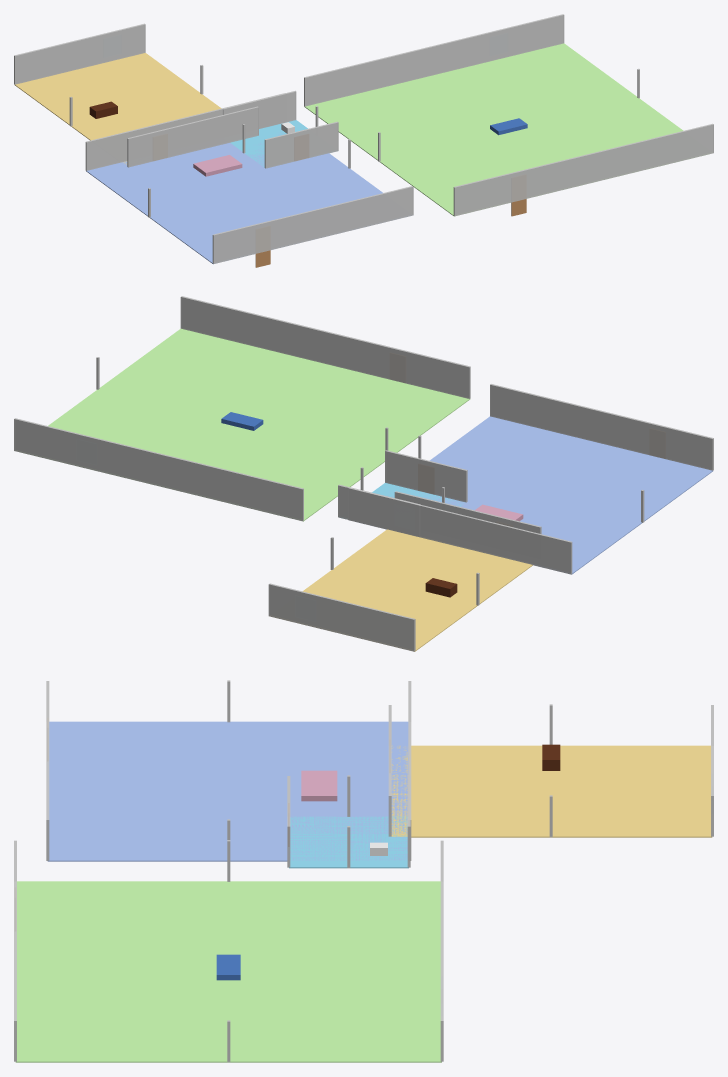
The model's file is colorful_floorplan_3413.obj.
3 renders of one model, top to bottom at view 1: azimuth 30°, elevation 25°; view 2: azimuth 150°, elevation 25°; view 3: azimuth 270°, elevation 25°, orthographic. The views are drawn at different scales.
Parts seen in each view (by area): view 1: Living_Room_1_floor, Bedroom_1_floor, Kitchen_1_floor, Living_Room_1_front_wall, Living_Room_1_back_wall, Bedroom_1_front_wall, Kitchen_1_back_wall, Kitchen_1_front_wall, Bathroom_1_front_wall, Bedroom_1_back_wall, Bathroom_1_back_wall, Bathroom_1_floor (+2 smaller); view 2: Living_Room_1_floor, Bedroom_1_floor, Kitchen_1_floor, Living_Room_1_back_wall, Living_Room_1_front_wall, Bedroom_1_back_wall, Bedroom_1_front_wall, Kitchen_1_back_wall, Bathroom_1_front_wall, Kitchen_1_front_wall, Bathroom_1_floor; view 3: Living_Room_1_floor, Bedroom_1_floor, Kitchen_1_floor, Bathroom_1_floor, Bedroom_1_bed_bed, Living_Room_1_back_wall, Bedroom_1_front_wall, Living_Room_1_sofa_sofa, Living_Room_1_front_wall, Bedroom_1_back_wall.
Boxes of the visible parts, left/top/right/bottom form: Living_Room_1_floor: left=304, top=43, right=694, bottom=216; Bedroom_1_floor: left=86, top=131, right=411, bottom=264; Kitchen_1_floor: left=15, top=53, right=221, bottom=164; Living_Room_1_front_wall: left=453, top=123, right=713, bottom=216; Living_Room_1_back_wall: left=304, top=14, right=564, bottom=106; Bedroom_1_front_wall: left=212, top=186, right=413, bottom=263; Kitchen_1_back_wall: left=14, top=23, right=145, bottom=84; Kitchen_1_front_wall: left=127, top=106, right=258, bottom=167; Bathroom_1_front_wall: left=264, top=121, right=338, bottom=168; Bedroom_1_back_wall: left=85, top=93, right=285, bottom=170; Bathroom_1_back_wall: left=223, top=90, right=296, bottom=128; Bathroom_1_floor: left=230, top=120, right=307, bottom=167; Living_Room_1_floor: left=48, top=328, right=470, bottom=521; Bedroom_1_floor: left=387, top=416, right=712, bottom=574; Kitchen_1_floor: left=303, top=529, right=532, bottom=651; Living_Room_1_back_wall: left=14, top=418, right=303, bottom=521; Living_Room_1_front_wall: left=180, top=296, right=470, bottom=398; Bedroom_1_back_wall: left=348, top=487, right=572, bottom=574; Bedroom_1_front_wall: left=490, top=384, right=713, bottom=470; Kitchen_1_back_wall: left=268, top=583, right=415, bottom=651; Bathroom_1_front_wall: left=385, top=450, right=467, bottom=502; Kitchen_1_front_wall: left=394, top=491, right=541, bottom=533; Bathroom_1_floor: left=372, top=482, right=464, bottom=506; Living_Room_1_floor: left=15, top=881, right=441, bottom=1062; Bedroom_1_floor: left=47, top=721, right=408, bottom=861; Kitchen_1_floor: left=391, top=745, right=712, bottom=837; Bathroom_1_floor: left=289, top=816, right=408, bottom=868; Bedroom_1_bed_bed: left=301, top=770, right=337, bottom=801; Living_Room_1_back_wall: left=440, top=840, right=443, bottom=1061; Bedroom_1_front_wall: left=46, top=681, right=49, bottom=860; Living_Room_1_sofa_sofa: left=216, top=954, right=240, bottom=980; Living_Room_1_front_wall: left=14, top=840, right=16, bottom=1061; Bedroom_1_back_wall: left=408, top=681, right=411, bottom=860.
Size of the model in its own units: 26.88 by 2.25 by 23.3.
